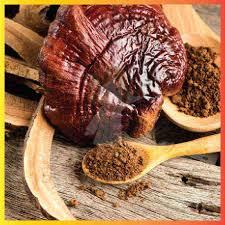Ganoderma - Fruit Body: (37, 4, 187, 145)
